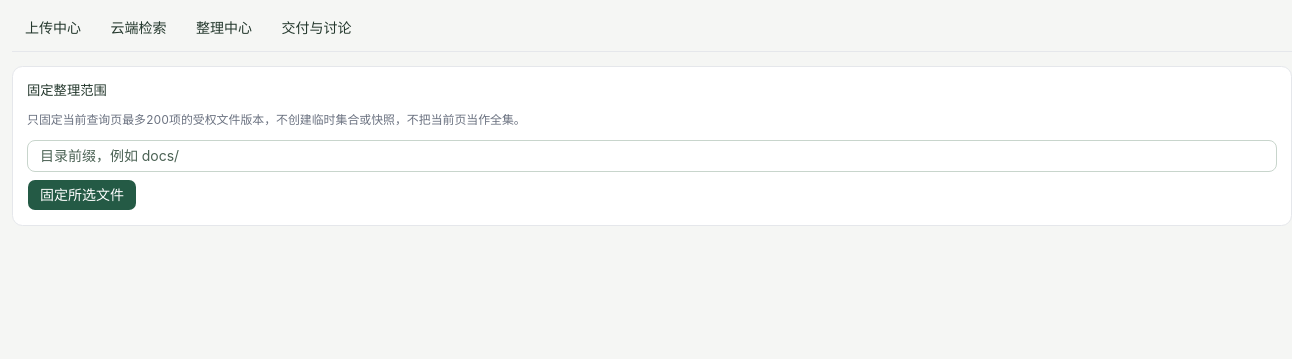
Test case: TestFPPlatformConsumers/page › treats an unconfigured organization policy as a normal first-use state, not an error
This screenshot has width=1292, height=359.
Type "docs/" into the field labelled "目录前缀".
click(652, 156); type("docs/")  # box [27,140,1277,172]
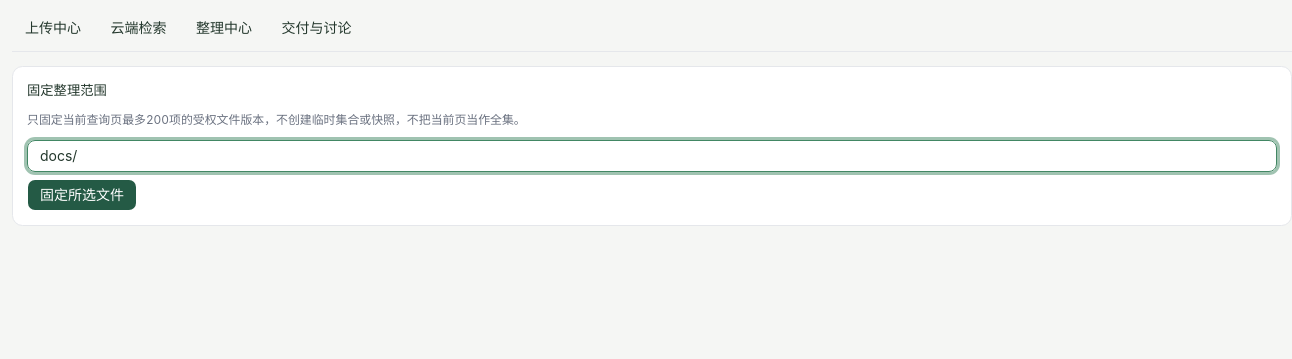
Click the button "固定所选文件".
click(82, 195)  # box [27,179,137,211]
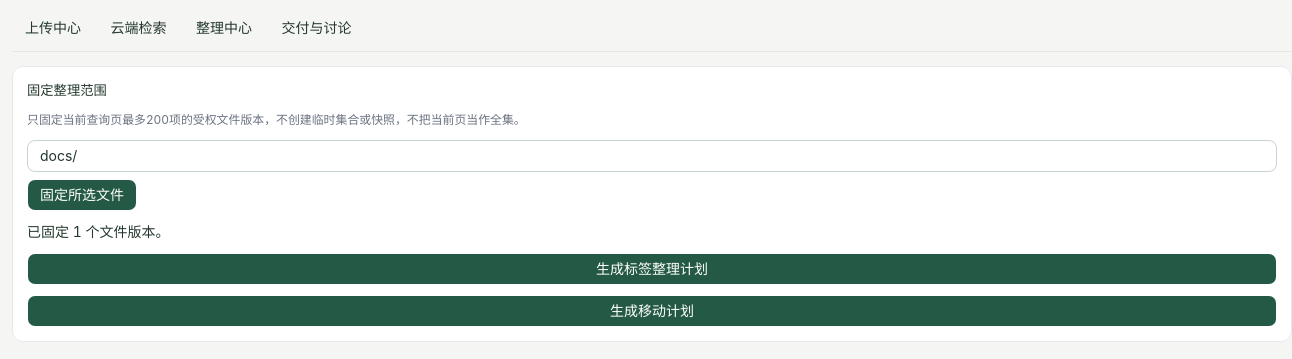
Expected: the text "已固定 1 个文件版本。" is shown, [27,223,170,240]
